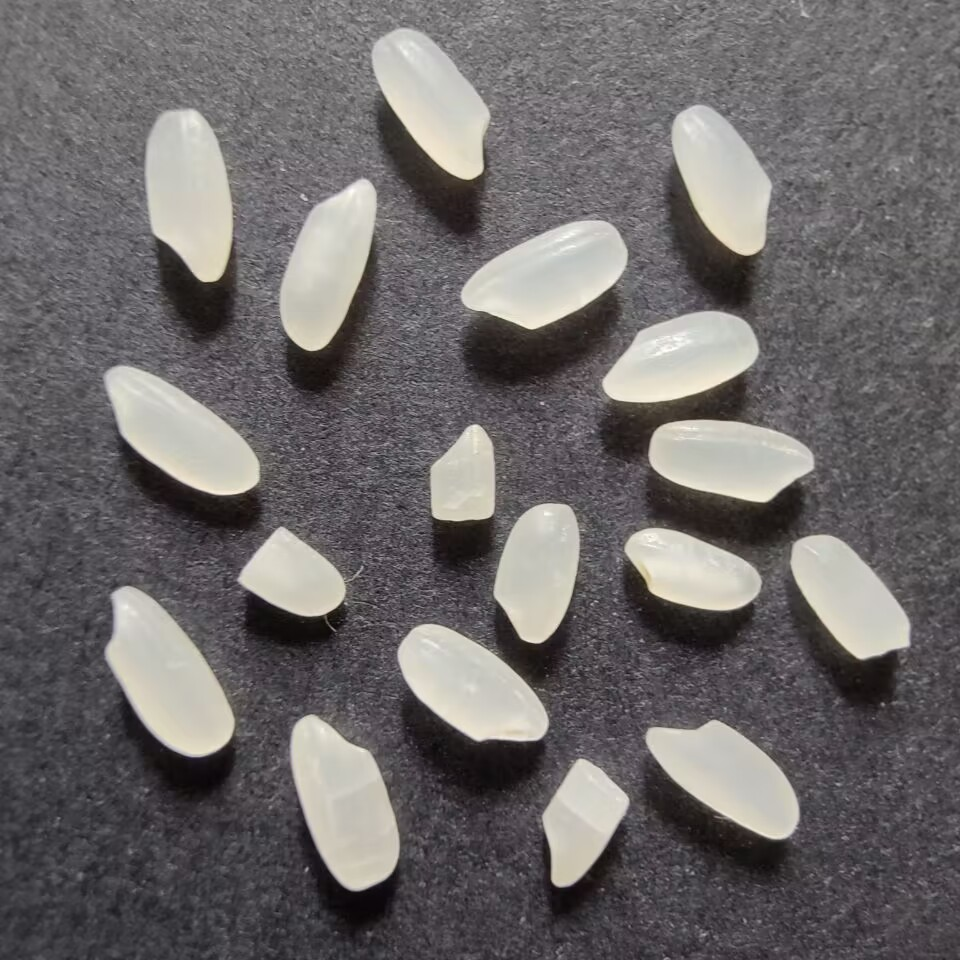broken: (531, 755, 633, 893), (233, 520, 351, 622), (420, 416, 503, 525)
rice: (94, 582, 240, 760), (91, 361, 264, 504), (284, 709, 407, 896), (635, 714, 806, 847), (363, 24, 499, 186), (456, 214, 635, 332), (393, 622, 551, 752), (277, 173, 381, 358), (783, 528, 918, 669), (136, 103, 239, 286), (666, 98, 779, 260), (645, 412, 822, 506), (598, 308, 764, 407), (488, 498, 586, 646), (619, 523, 767, 616)
